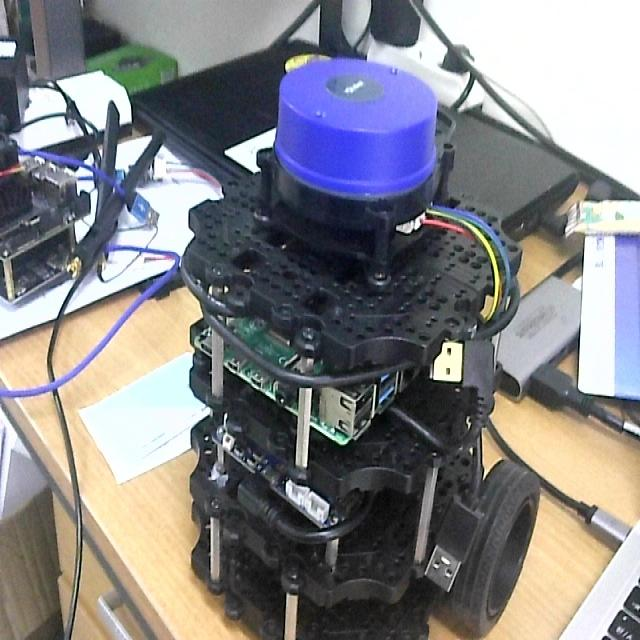turtle: (177, 56, 543, 640)
